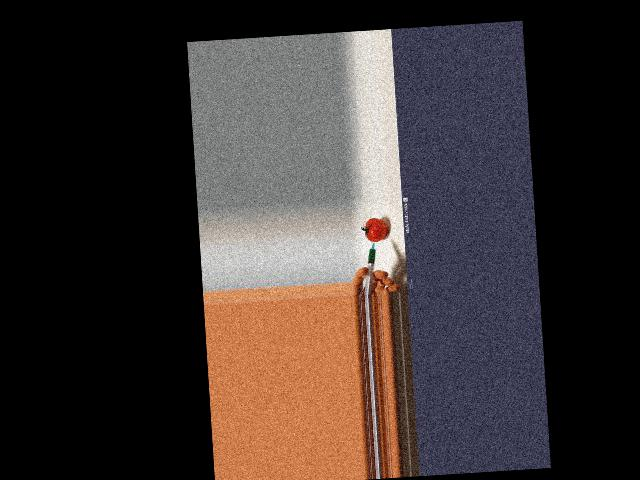tomato: (365, 218, 387, 242)
